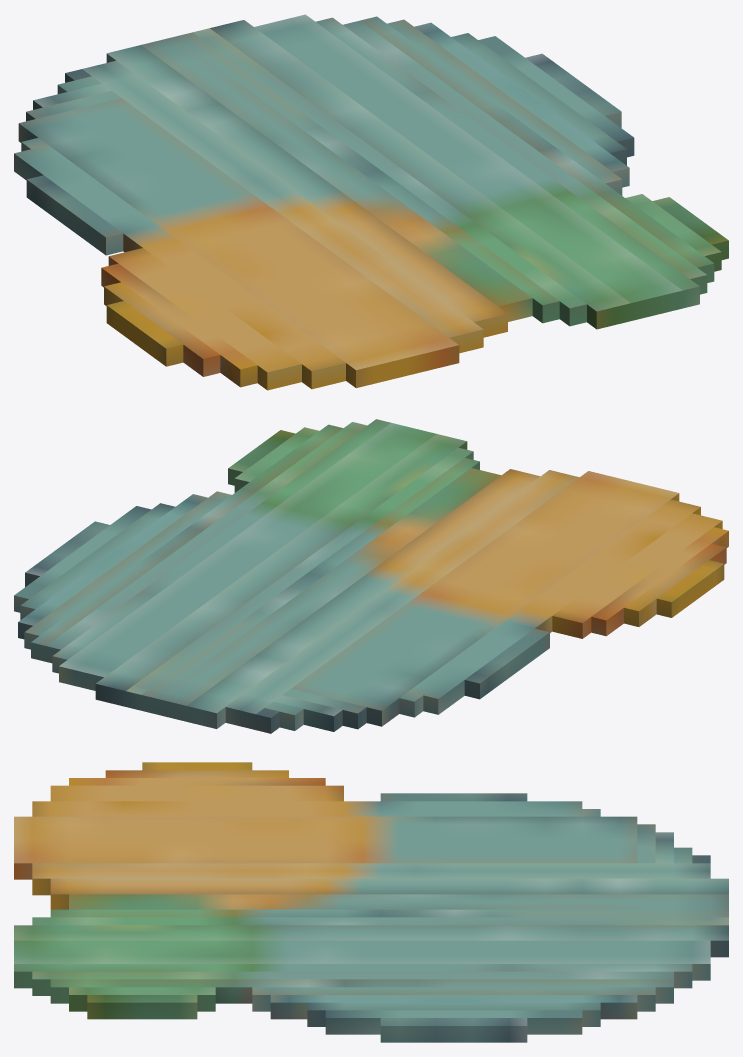
Rendered from RugsSphericalColorful_00.fbx.
3 views of the same model, one above another, from view 1: azimuth 30°, elevation 25°; view 2: azimuth 150°, elevation 25°; view 3: azimuth 270°, elevation 25° (orthographic). The views are drawn at different scales.
Visible parts, largest first — view 1: RugsSphericalColorful_00; view 2: RugsSphericalColorful_00; view 3: RugsSphericalColorful_00.
Part boxes in pixels (bbox=[...]): RugsSphericalColorful_00: bbox=[14, 14, 728, 390]; RugsSphericalColorful_00: bbox=[14, 419, 728, 733]; RugsSphericalColorful_00: bbox=[14, 762, 728, 1042].
Size of the model in its own units: 170 by 195 by 5.
1 material, 1 textured.
